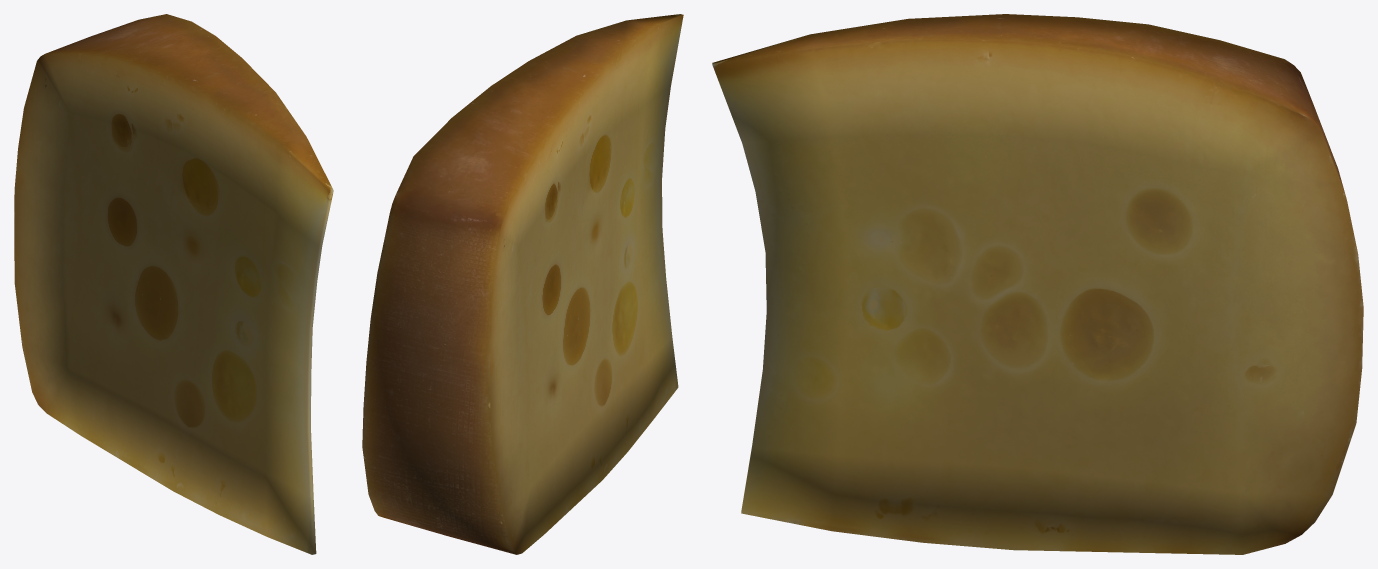
File: SM_AnimalsRat_Cheese.FBX
3 renders of one model, left to right at view 1: azimuth 30°, elevation 25°; view 2: azimuth 150°, elevation 25°; view 3: azimuth 270°, elevation 25°, orthographic. The views are drawn at different scales.
Parts seen in each view (by area): view 1: Cheese; view 2: Cheese; view 3: Cheese.
Part boxes in pixels (x1=…): Cheese: x1=14, y1=14, x2=333, y2=554; Cheese: x1=362, y1=14, x2=683, y2=554; Cheese: x1=712, y1=14, x2=1363, y2=554.
Bounding box in the file's own units: 4.27 × 12.37 × 14.5.
